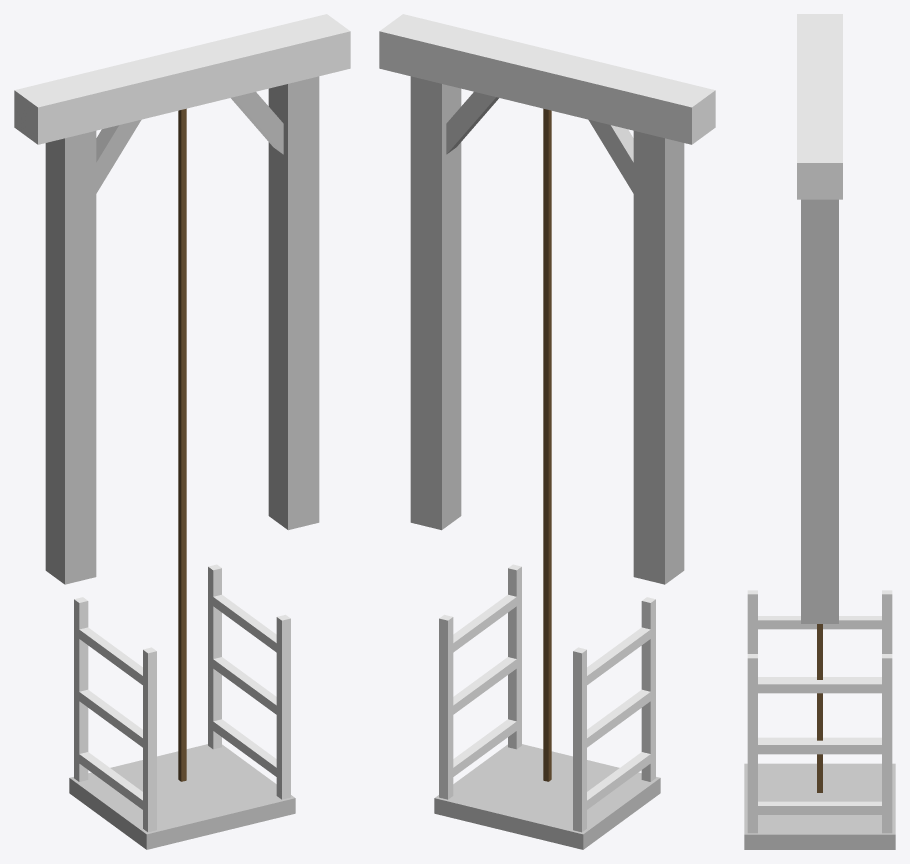
Rendered from hoist_cage.glb.
3 views of the same model, side by side, from view 1: azimuth 30°, elevation 25°; view 2: azimuth 150°, elevation 25°; view 3: azimuth 270°, elevation 25° (orthographic). The views are drawn at different scales.
Visible parts, largest first — view 1: HoistUpright.004, HoistUpright.005, HoistCrossbar.002, CageFloor.002, LiftRope.002, CagePost.011, CagePost.009, CagePost.008, CagePost.010, HoistBrace.004, HoistBrace.005, CageSlat.013 (+5 smaller); view 2: HoistUpright.004, HoistUpright.005, HoistCrossbar.002, CageFloor.002, LiftRope.002, CagePost.010, CagePost.008, CagePost.009, CagePost.011, HoistBrace.004, HoistBrace.005, CageSlat.016 (+5 smaller); view 3: HoistUpright.005, CageFloor.002, HoistCrossbar.002, CageSlat.015, CageSlat.017, CagePost.011, CagePost.010, CageSlat.013, CageSlat.016, LiftRope.002, CagePost.008, CagePost.009 (+2 smaller).
Part boxes in pixels (x1=…): HoistUpright.004: x1=45, y1=131, x2=96, y2=584; HoistUpright.005: x1=268, y1=76, x2=319, y2=530; HoistCrossbar.002: x1=14, y1=14, x2=350, y2=144; CageFloor.002: x1=69, y1=744, x2=295, y2=849; LiftRope.002: x1=178, y1=108, x2=186, y2=781; CagePost.011: x1=276, y1=614, x2=290, y2=799; CagePost.009: x1=143, y1=647, x2=156, y2=832; CagePost.008: x1=74, y1=597, x2=88, y2=781; CagePost.010: x1=208, y1=564, x2=221, y2=749; HoistBrace.004: x1=96, y1=119, x2=141, y2=193; HoistBrace.005: x1=231, y1=92, x2=283, y2=154; CageSlat.013: x1=208, y1=718, x2=281, y2=780; HoistUpright.004: x1=633, y1=131, x2=684, y2=584; HoistUpright.005: x1=410, y1=76, x2=461, y2=530; HoistCrossbar.002: x1=379, y1=14, x2=715, y2=144; CageFloor.002: x1=434, y1=744, x2=660, y2=849; LiftRope.002: x1=543, y1=108, x2=551, y2=781; CagePost.010: x1=439, y1=614, x2=453, y2=799; CagePost.008: x1=573, y1=647, x2=586, y2=832; CagePost.009: x1=641, y1=597, x2=655, y2=781; CagePost.011: x1=508, y1=564, x2=521, y2=749; HoistBrace.004: x1=588, y1=119, x2=633, y2=193; HoistBrace.005: x1=446, y1=92, x2=498, y2=154; CageSlat.016: x1=582, y1=626, x2=655, y2=688; HoistUpright.005: x1=801, y1=199, x2=838, y2=623; CageFloor.002: x1=744, y1=763, x2=895, y2=849; HoistCrossbar.002: x1=797, y1=14, x2=842, y2=199; CageSlat.015: x1=748, y1=740, x2=891, y2=754; CageSlat.017: x1=748, y1=680, x2=891, y2=693; CagePost.011: x1=747, y1=654, x2=757, y2=833; CagePost.010: x1=882, y1=654, x2=892, y2=833; CageSlat.013: x1=749, y1=801, x2=891, y2=814; CageSlat.016: x1=751, y1=616, x2=890, y2=629; LiftRope.002: x1=817, y1=624, x2=822, y2=792; CagePost.008: x1=882, y1=590, x2=892, y2=653; CagePost.009: x1=747, y1=590, x2=757, y2=653.
Size of the model in its own units: 4.2 by 9.54 by 1.8.
